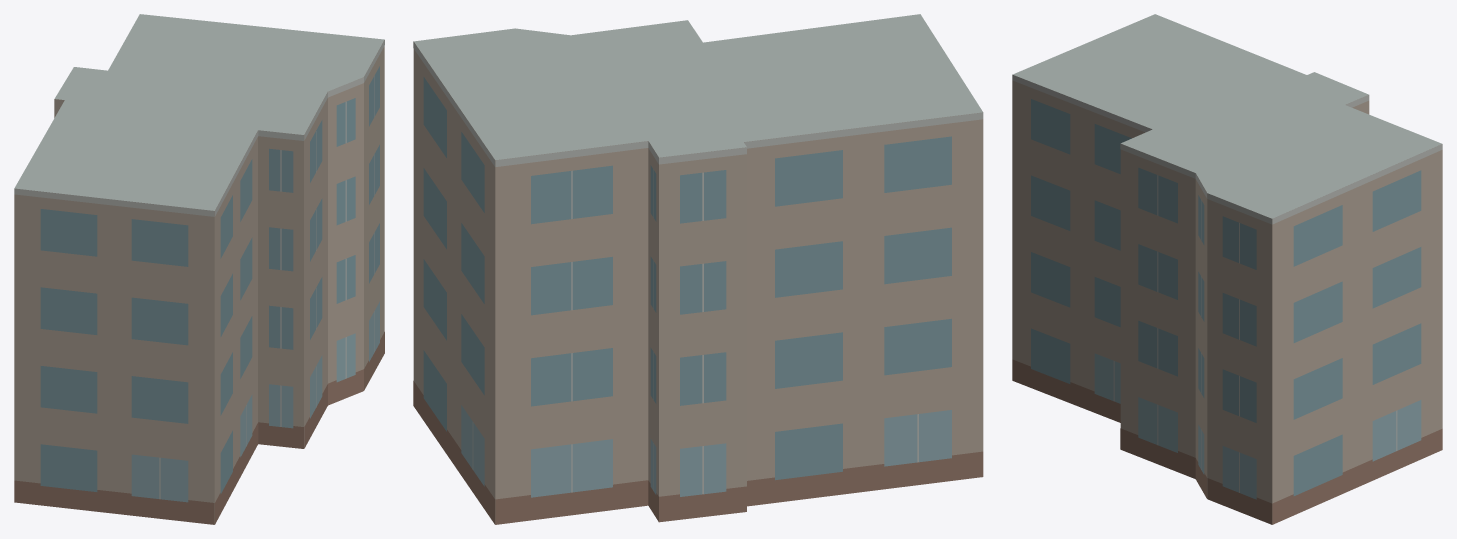
The model's file is survey-upis-32481460.glb.
The picture shows the model from 3 angles, left to right: view 1: azimuth 30°, elevation 25°; view 2: azimuth 150°, elevation 25°; view 3: azimuth 270°, elevation 25°; orthographic projection. The views are drawn at different scales.
Parts seen in each view (by area): view 1: survey-upis-32481460.tmp; view 2: survey-upis-32481460.tmp; view 3: survey-upis-32481460.tmp.
Part boxes in pixels (x1,y1,x2,y2): survey-upis-32481460.tmp: (14, 14, 384, 524); survey-upis-32481460.tmp: (413, 14, 983, 524); survey-upis-32481460.tmp: (1012, 14, 1442, 524).
Size of the model in its own units: 18.38 by 12.8 by 16.31.
